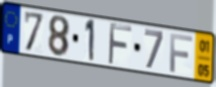1: (84, 18, 97, 63)
7: (143, 27, 166, 72), (23, 10, 46, 54)
8: (46, 13, 71, 58)
F: (107, 21, 134, 67), (169, 32, 194, 74)
